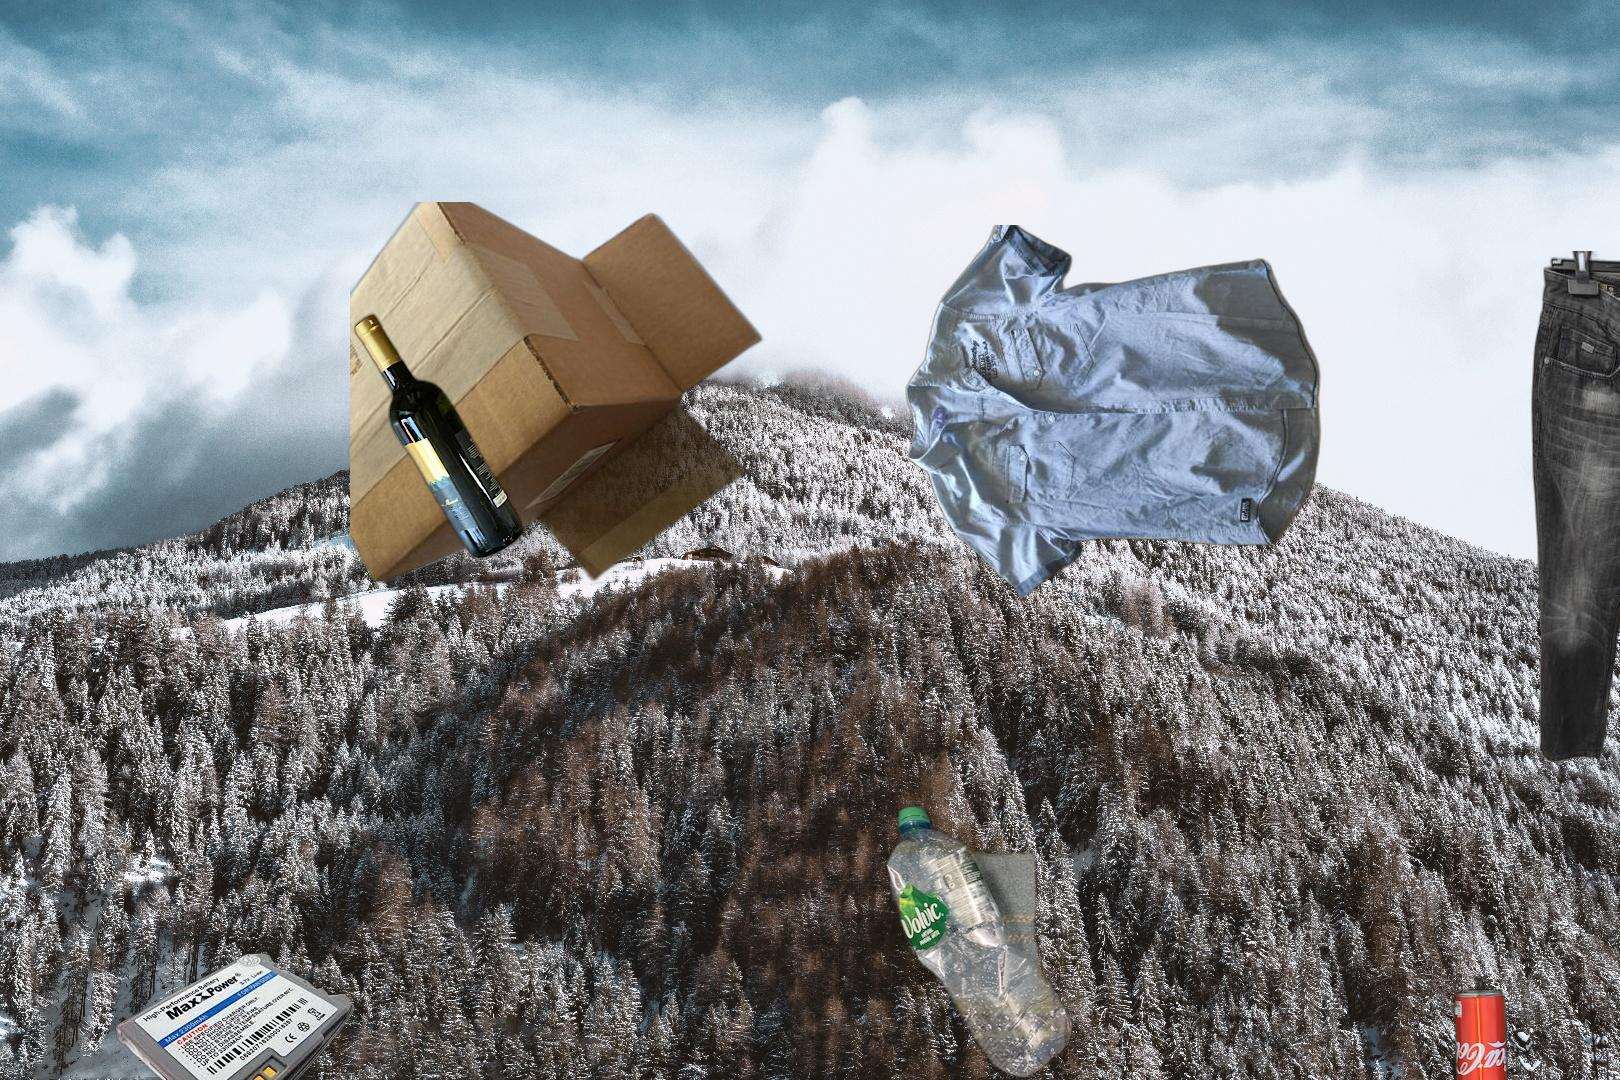battery: (113, 951, 357, 1080)
clothes: (900, 225, 1325, 600), (1528, 251, 1620, 767)
glass: (351, 309, 527, 565)
metal-cans: (1449, 982, 1514, 1080)
plastic-bottles: (881, 800, 1281, 1080)
trashbox-cardboard: (350, 202, 768, 586)
